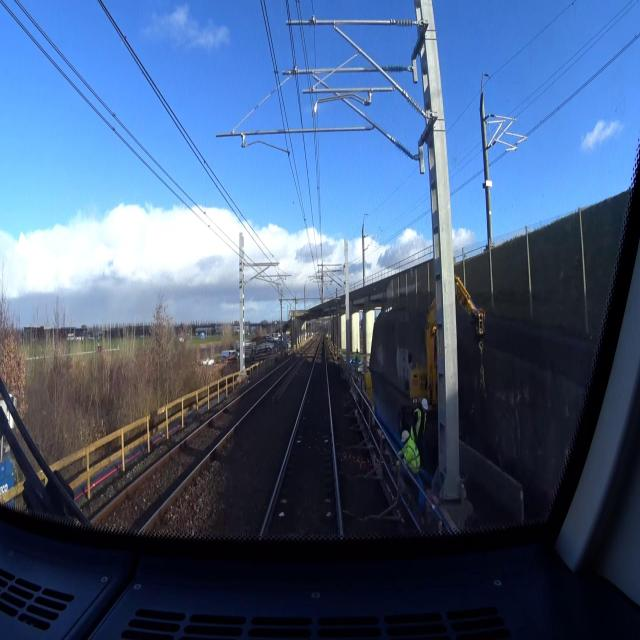rail-track: (99, 356, 297, 533), (264, 340, 339, 539)
